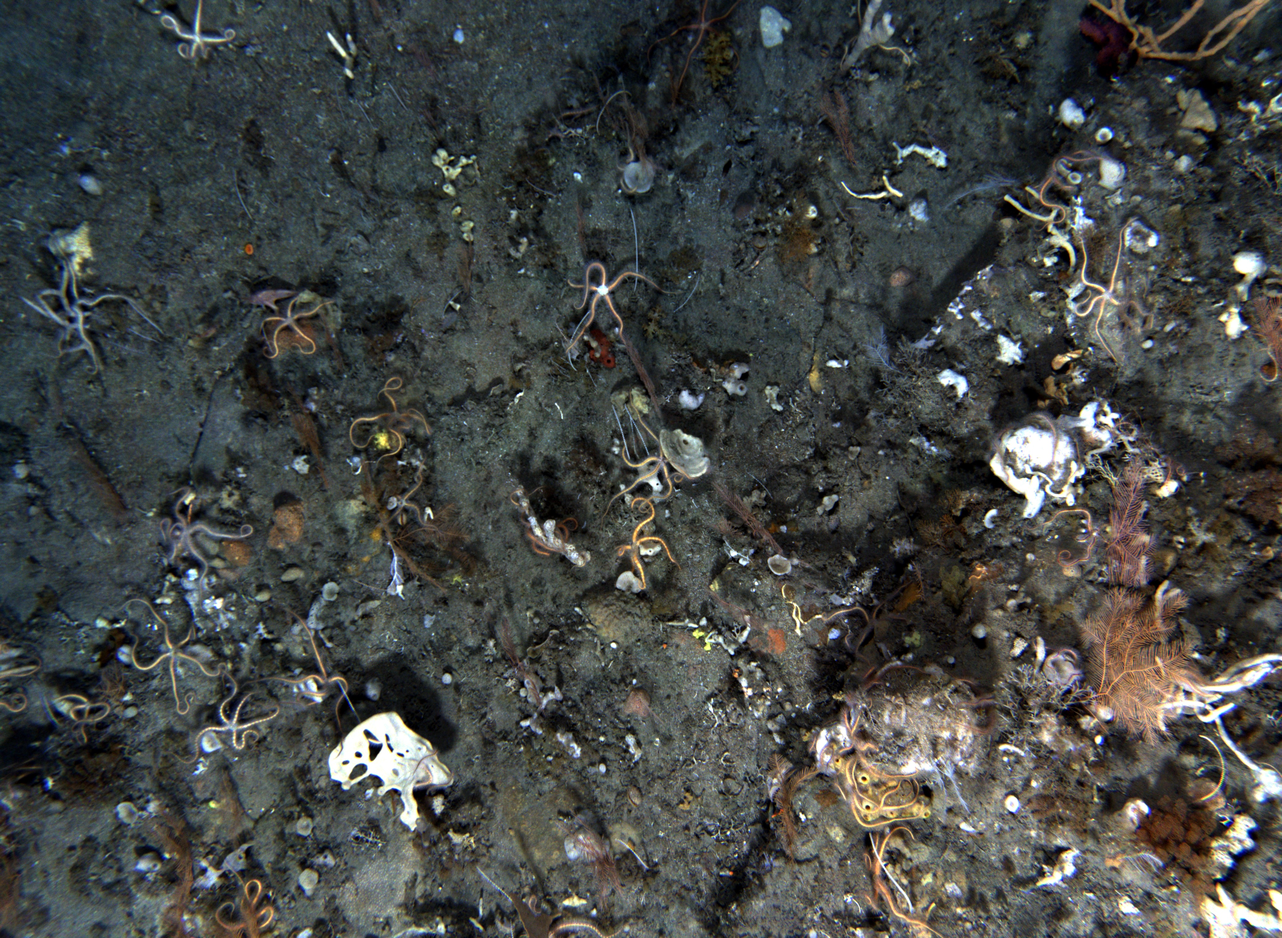Brachionichthyidae: (240, 287, 304, 317)
